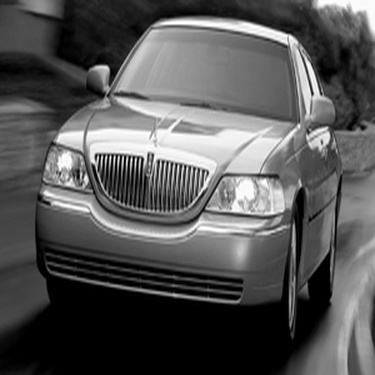car: (17, 17, 346, 343)
